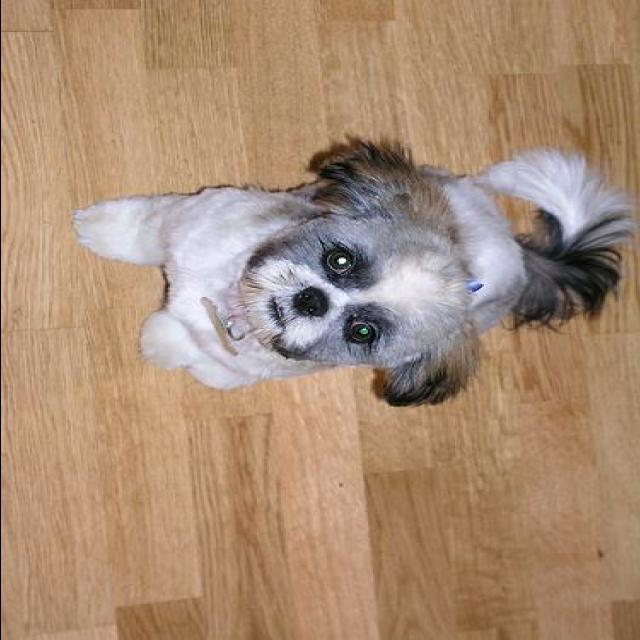shih_tzu: (68, 132, 634, 410)
